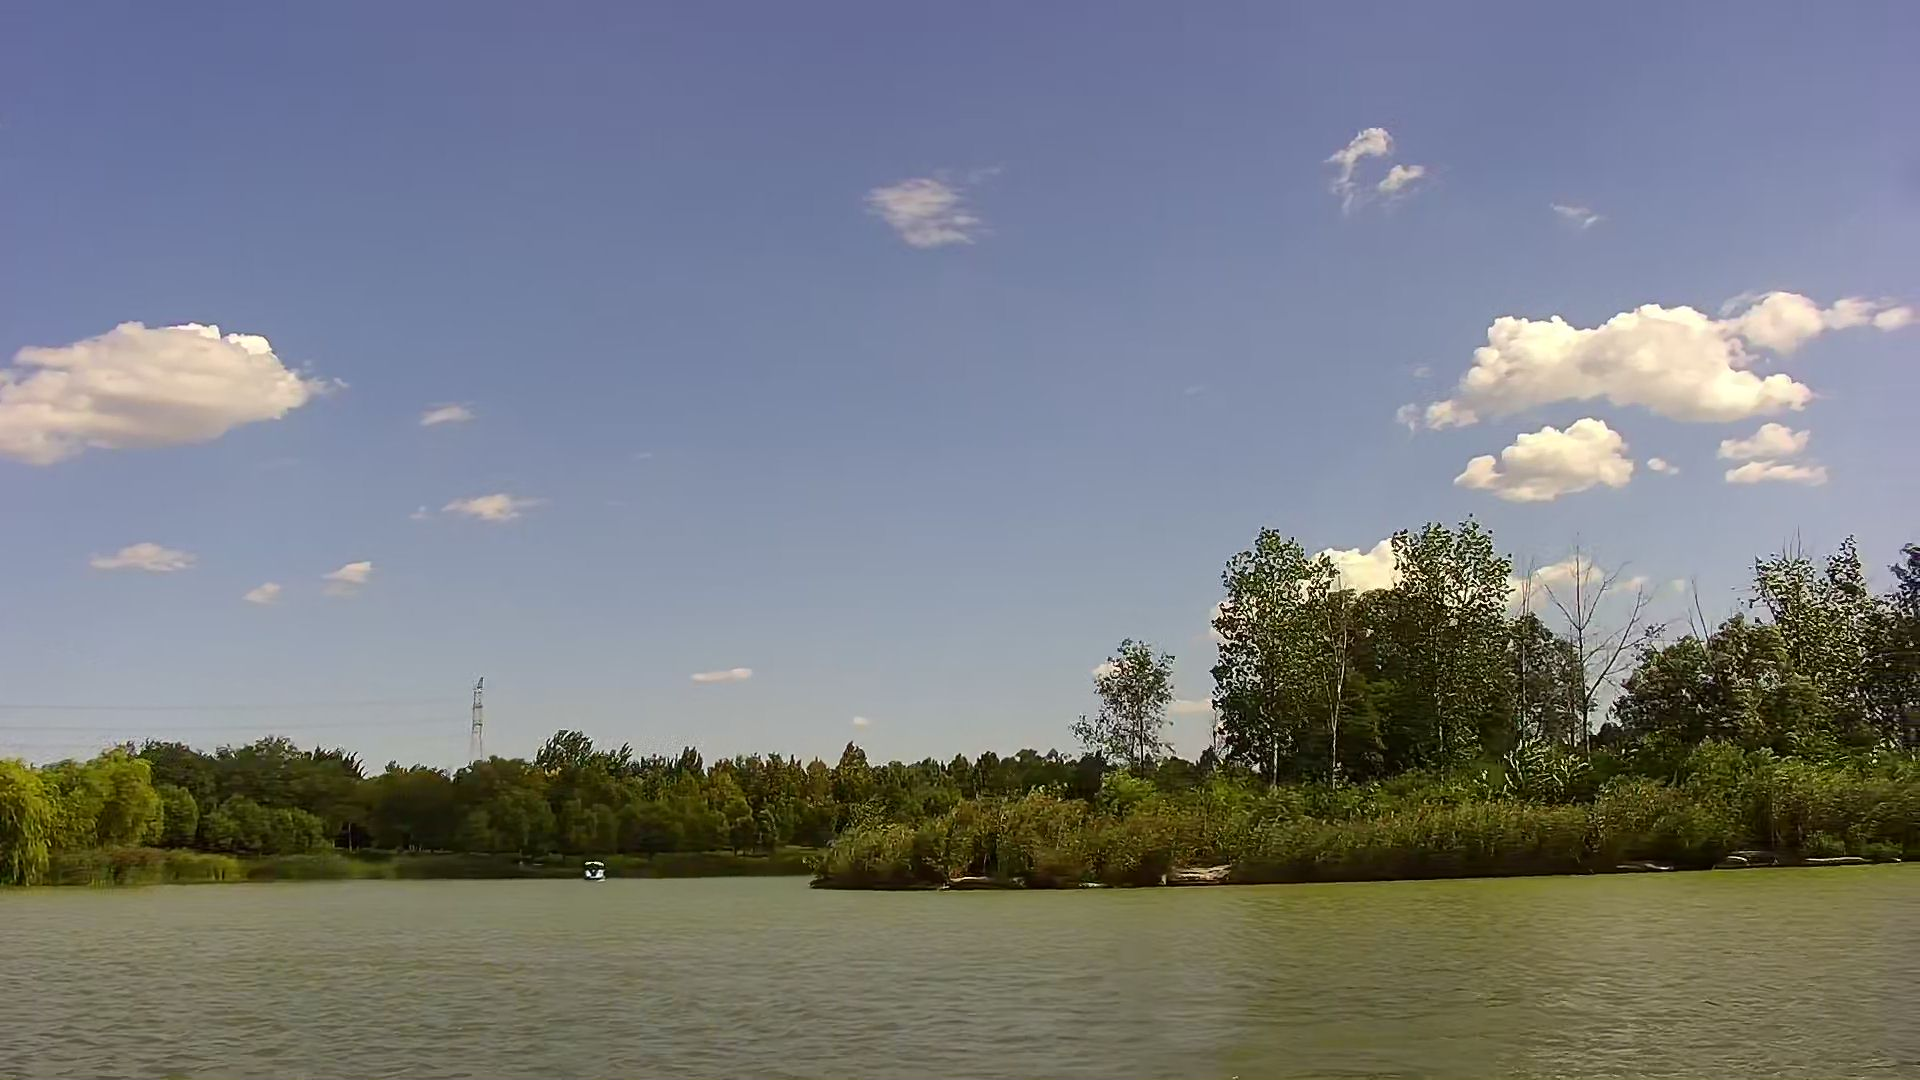boat: (582, 857, 601, 878)
rock: (1162, 860, 1232, 884), (940, 874, 1013, 889), (1724, 845, 1756, 862), (1617, 861, 1664, 872), (1808, 853, 1859, 861), (1081, 878, 1104, 894)
